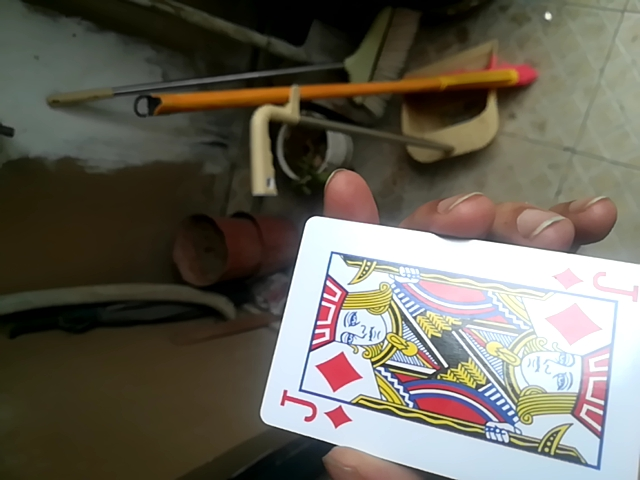fk j: (257, 210, 640, 478)
